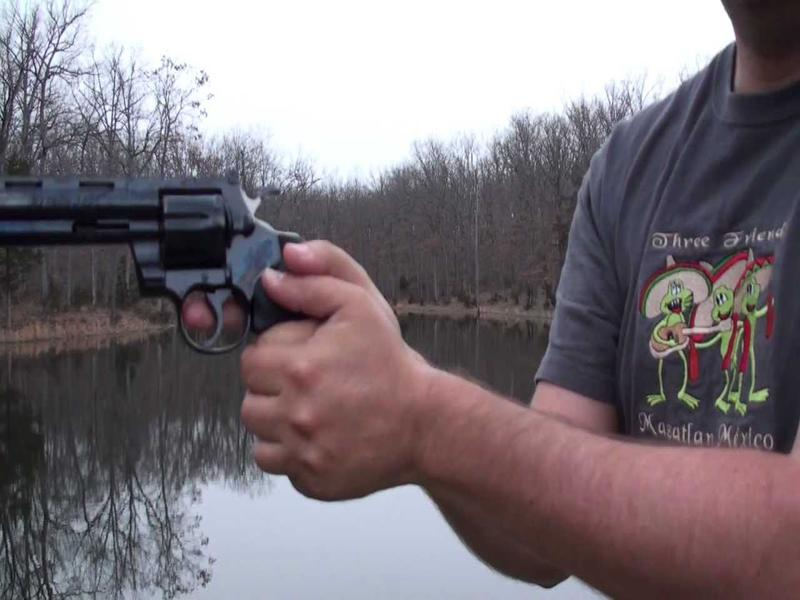Revolver: (4, 157, 318, 375)
